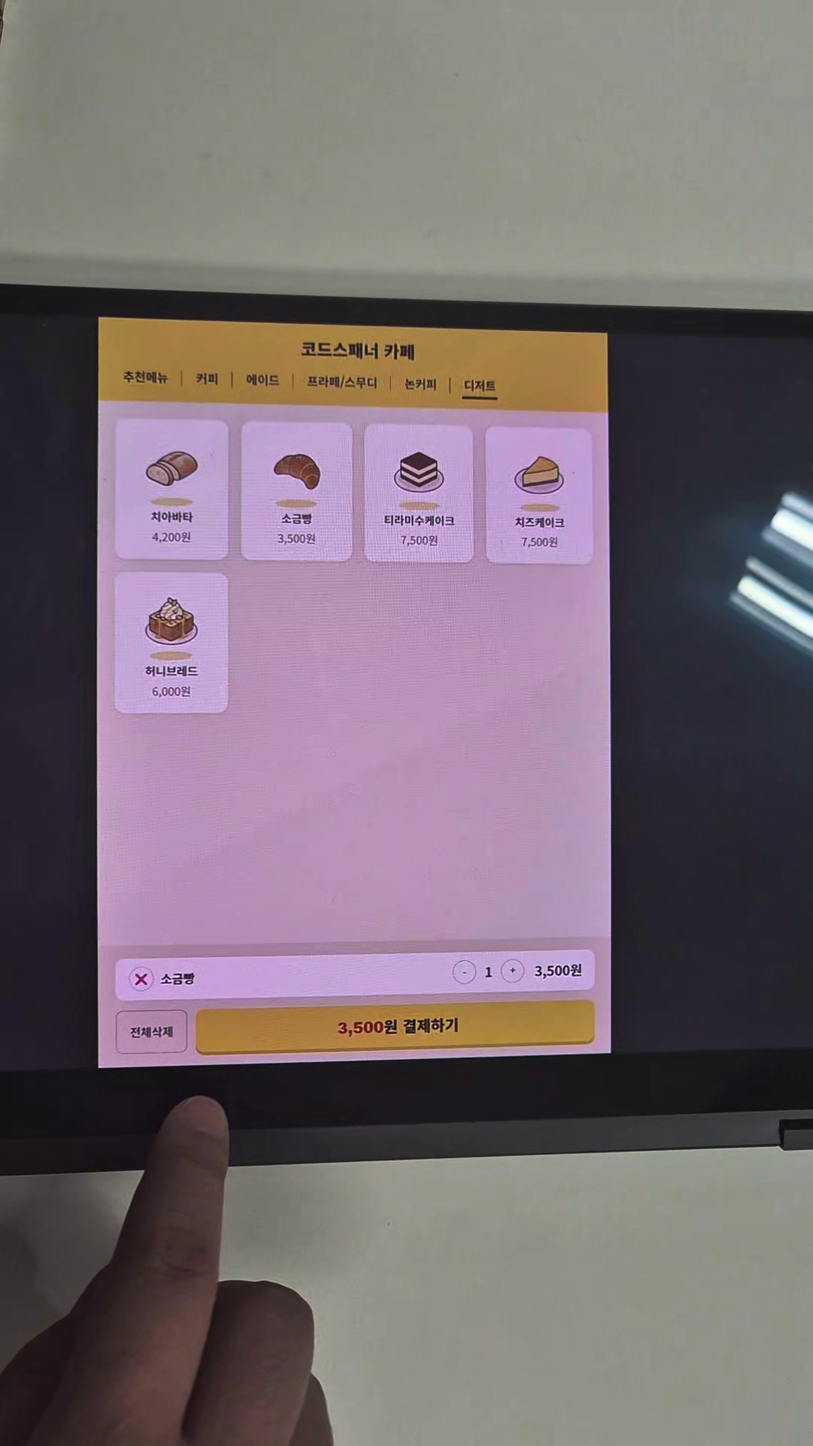action_button: (195, 1001, 596, 1051), (115, 1011, 187, 1053)
cart_item: (114, 950, 592, 999)
category_tab: (307, 375, 377, 390), (122, 369, 170, 386), (245, 372, 279, 386), (405, 377, 437, 391), (463, 379, 496, 391), (195, 371, 218, 385)
menu_back: (240, 420, 355, 559), (117, 418, 228, 558), (115, 575, 228, 711), (370, 424, 475, 561), (488, 428, 594, 561)
menu_name: (384, 515, 455, 526), (145, 665, 198, 677), (515, 517, 564, 528), (150, 510, 193, 522), (282, 513, 313, 524)
menu_price: (151, 532, 192, 543), (152, 686, 191, 697), (277, 533, 315, 544), (400, 535, 438, 546), (522, 537, 558, 548)
